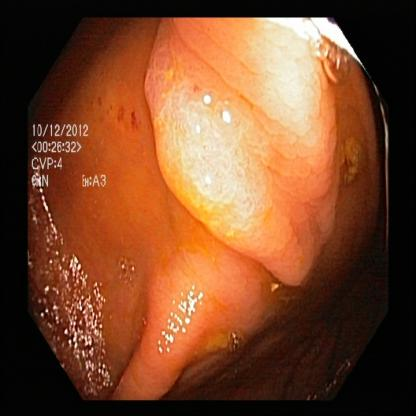Labels: (28, 114, 119, 207)
Polyps: (156, 14, 356, 291)
